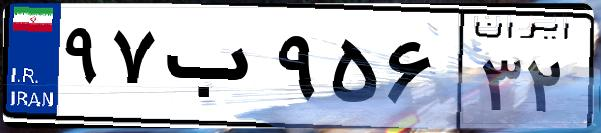2: (525, 38, 570, 115)
3: (475, 38, 525, 113)
5: (330, 28, 385, 110)
6: (385, 28, 445, 110)
7: (110, 28, 158, 98)
9: (270, 28, 330, 110), (57, 26, 110, 100)
ب: (158, 20, 270, 120)
